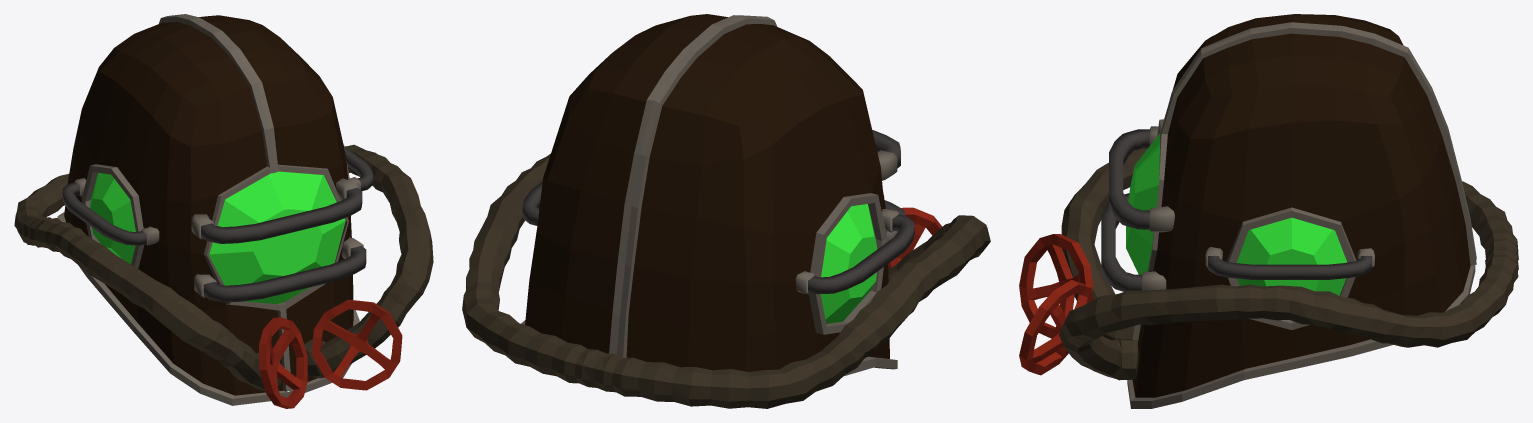
File: Helmet.fbx
3 renders of one model, left to right at view 1: azimuth 30°, elevation 25°; view 2: azimuth 150°, elevation 25°; view 3: azimuth 270°, elevation 25°, orthographic. The views are drawn at different scales.
Visible parts, largest first — view 1: Cube.003, Plane.004, Cube.001, Cube.002, Plane.003, Plane.005, Plane.009, Plane.002, Plane.007; view 2: Cube.003, Plane.004, Cube.002, Cube.001, Plane.009, Plane.003, Plane.005, Plane.007, Plane.008, Plane.002; view 3: Cube.003, Plane.004, Cube.002, Cube.001, Plane.003, Plane.005, Plane.007, Plane.002.
Boxes of the visible parts, box(x1,y1,x2,y2) form: Cube.003: box(64, 15, 353, 395); Plane.004: box(14, 144, 433, 390); Cube.001: box(89, 171, 345, 304); Cube.002: box(57, 14, 359, 405); Plane.003: box(259, 299, 402, 408); Plane.005: box(201, 187, 366, 302); Plane.009: box(62, 182, 146, 245); Plane.002: box(191, 178, 363, 297); Plane.007: box(344, 147, 373, 190); Cube.003: box(525, 14, 889, 371); Plane.004: box(462, 153, 990, 408); Cube.002: box(521, 15, 897, 375); Cube.001: box(820, 204, 877, 323); Plane.009: box(808, 214, 914, 294); Plane.003: box(888, 207, 942, 269); Plane.005: box(872, 130, 905, 215); Plane.007: box(522, 181, 542, 225); Plane.008: box(795, 209, 899, 294); Plane.002: box(877, 150, 897, 241); Cube.003: box(1132, 14, 1470, 397); Plane.004: box(1059, 148, 1518, 380); Cube.002: box(1127, 22, 1476, 408); Cube.001: box(1126, 133, 1347, 295); Plane.003: box(1019, 234, 1093, 375); Plane.005: box(1101, 129, 1149, 291); Plane.007: box(1208, 256, 1372, 279); Plane.002: box(1142, 126, 1174, 290).
Bounding box in the file's own units: 333 × 303 × 382.
